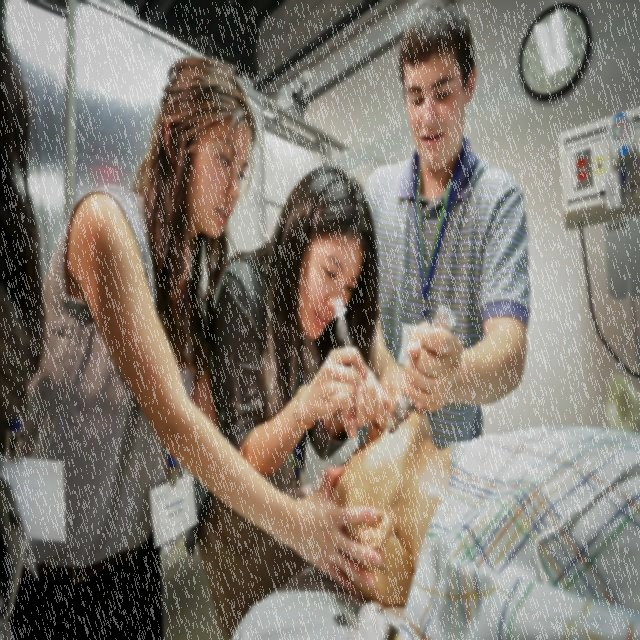pessoa: (9, 52, 387, 640), (173, 152, 393, 640), (356, 0, 538, 448), (329, 388, 638, 637), (0, 46, 45, 640)
